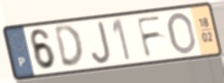1: (110, 17, 132, 64)
6: (28, 27, 58, 73)
D: (52, 23, 85, 70)
F: (134, 13, 164, 60)
J: (90, 19, 113, 66)
O: (167, 11, 199, 56)
